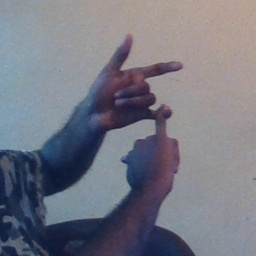S: (88, 29, 191, 188)
